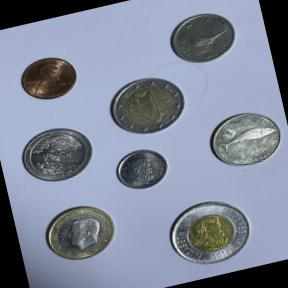coin: (154, 186, 262, 278), (97, 65, 194, 147), (196, 98, 288, 179), (12, 114, 101, 190), (34, 196, 124, 270), (12, 47, 86, 109), (107, 140, 174, 197)
